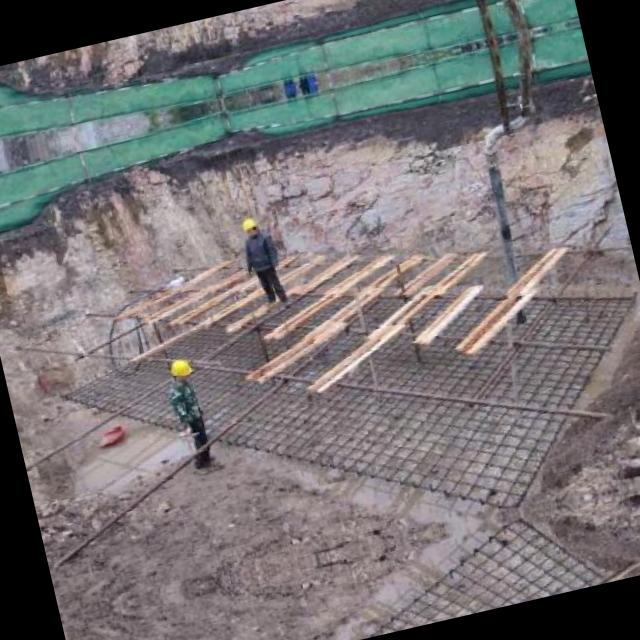helmet: (162, 351, 198, 386), (234, 212, 260, 238)
